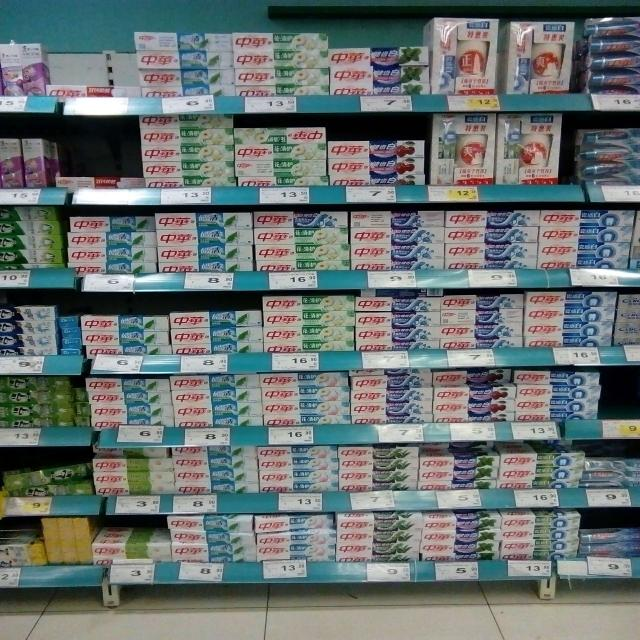100- O.O.S: (602, 370, 640, 438)
